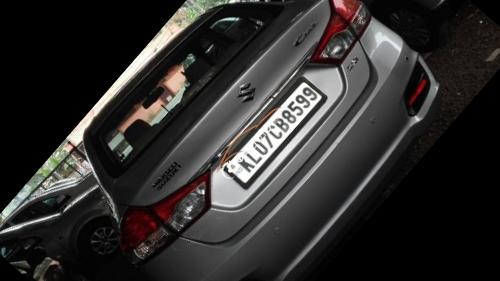plate: (211, 63, 341, 203)
